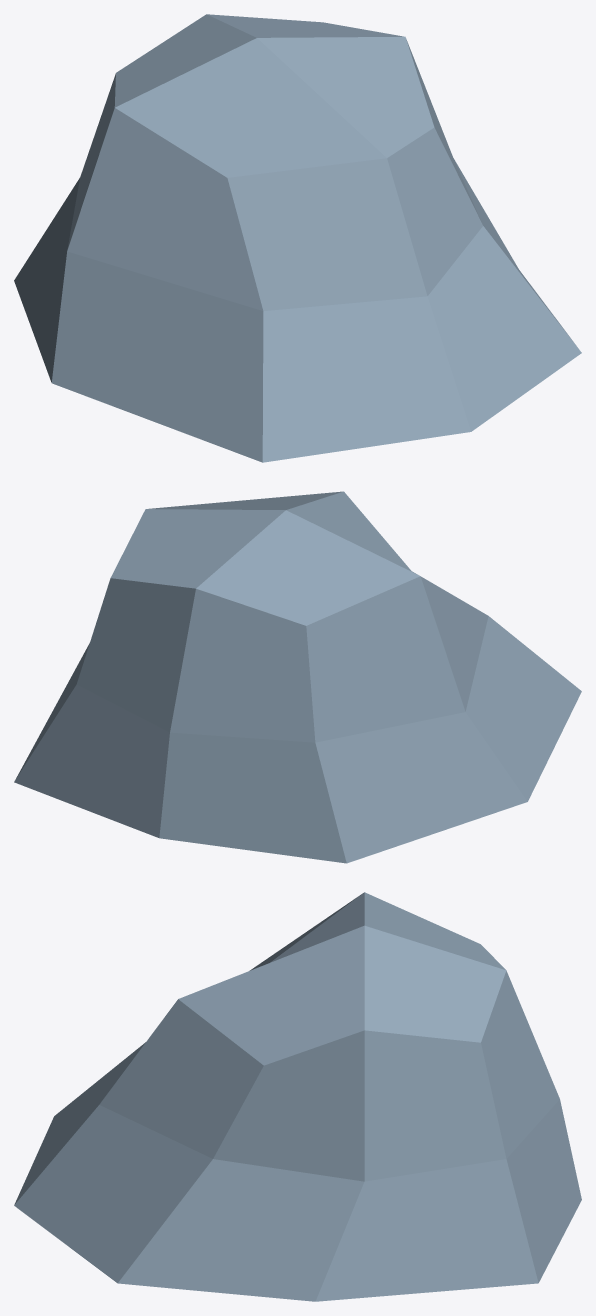
The model's file is rock_2.fbx.
3 views of the same model, one above another, from view 1: azimuth 30°, elevation 25°; view 2: azimuth 150°, elevation 25°; view 3: azimuth 270°, elevation 25° (orthographic). The views are drawn at different scales.
Parts seen in each view (by area): view 1: Cube.005; view 2: Cube.005; view 3: Cube.005.
Part boxes in pixels (x1,y1,x2,y2): Cube.005: (14,14,581,462); Cube.005: (14,491,581,863); Cube.005: (14,892,581,1301).
Size of the model in its own units: 1.13 by 0.6246 by 1.22.
Materials: 1 (1 with a texture image).
